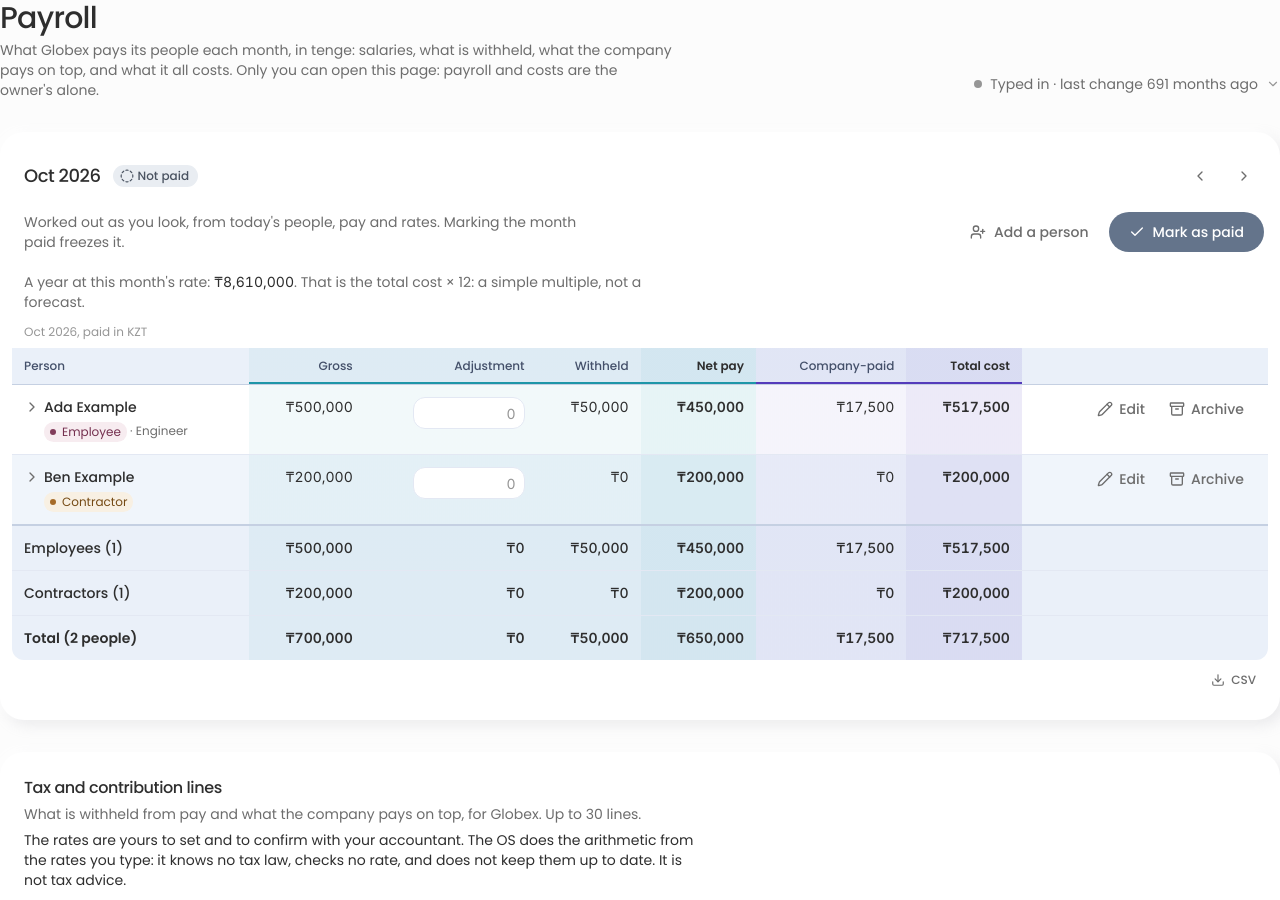
Test case: PayrollView: one table, live until paid › Add a person is at the top of the table; each row has Edit and Archive
Click the button named "Archive Ada Example" at [1206, 409], box [1157,391,1256,427]
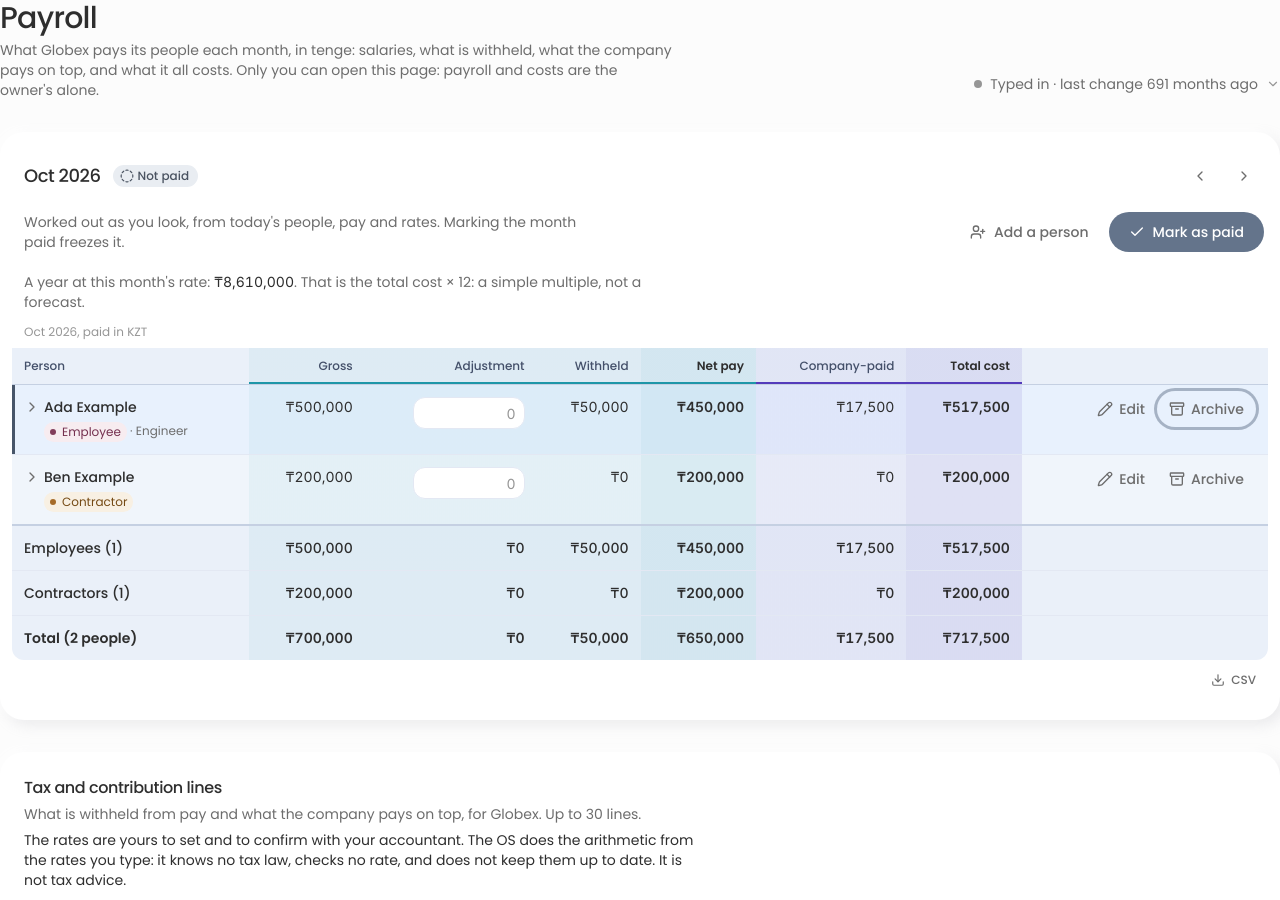
Click the button named "Edit Ben Example" at [1121, 479], box [1085,461,1157,497]
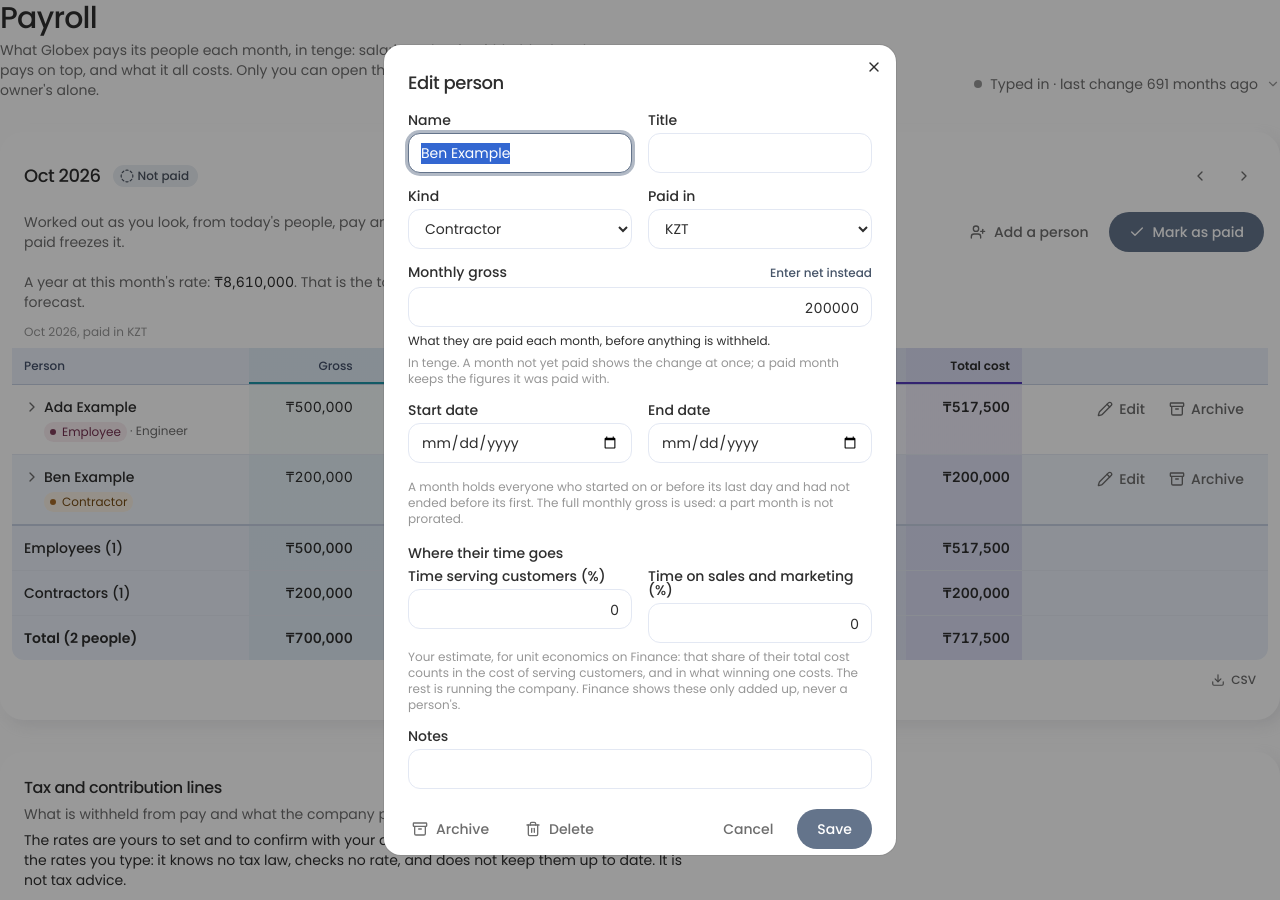
Check: the field labelled "Name" holds "Ben Example", box [408,133,632,173]
